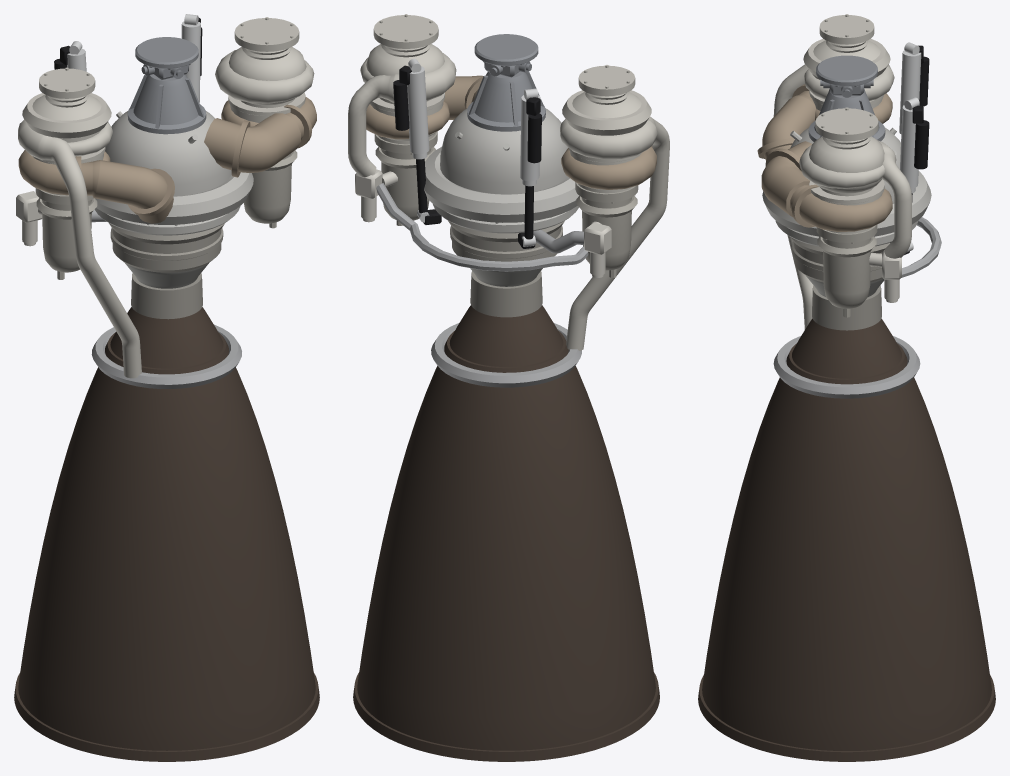
The picture shows the model from 3 angles, left to right: view 1: azimuth 30°, elevation 25°; view 2: azimuth 150°, elevation 25°; view 3: azimuth 270°, elevation 25°; orthographic projection. The views are drawn at different scales.
Visible parts, largest first — view 1: M2_Nozzle, M2_Turbopumps, M2_HotGasDucts, M2_InjectorDome, M2_ChamberJacket, M2_Preburners, M2_GimbalMount, M2_NozzleBands, M2_Lines, M2_Actuators; view 2: M2_Nozzle, M2_Turbopumps, M2_InjectorDome, M2_Preburners, M2_Lines, M2_Actuators, M2_NozzleBands, M2_GimbalMount, M2_ChamberJacket, M2_HotGasDucts; view 3: M2_Nozzle, M2_Turbopumps, M2_HotGasDucts, M2_NozzleBands, M2_Preburners, M2_Actuators, M2_Lines, M2_ChamberJacket, M2_GimbalMount, M2_InjectorDome.
Part boxes in pixels (box(x1,y1,x2,y2)): M2_Nozzle: box(18, 263, 315, 750); M2_Turbopumps: box(18, 17, 314, 378); M2_HotGasDucts: box(18, 97, 316, 223); M2_InjectorDome: box(94, 111, 253, 235); M2_ChamberJacket: box(109, 223, 224, 319); M2_Preburners: box(16, 150, 297, 279); M2_GimbalMount: box(127, 37, 206, 134); M2_NozzleBands: box(14, 332, 319, 761); M2_Lines: box(91, 210, 241, 388); M2_Actuators: box(54, 14, 202, 102); M2_Nozzle: box(357, 268, 655, 750); M2_Turbopumps: box(348, 14, 669, 350); M2_InjectorDome: box(424, 108, 579, 233); M2_Preburners: box(355, 132, 638, 277); M2_Lines: box(376, 183, 588, 387); M2_Actuators: box(393, 58, 541, 248); M2_NozzleBands: box(353, 330, 659, 761); M2_GimbalMount: box(467, 34, 545, 131); M2_ChamberJacket: box(448, 221, 564, 317); M2_HotGasDucts: box(366, 75, 656, 189); M2_Nozzle: box(702, 276, 991, 750); M2_Turbopumps: box(773, 14, 911, 329); M2_HotGasDucts: box(757, 84, 892, 231); M2_NozzleBands: box(698, 343, 995, 761); M2_Preburners: box(816, 225, 901, 317); M2_Actuators: box(890, 42, 929, 254); M2_Lines: box(773, 217, 941, 398); M2_ChamberJacket: box(790, 237, 890, 330); M2_GimbalMount: box(808, 55, 885, 141); M2_InjectorDome: box(762, 127, 931, 246).
Size of the model in its own units: 1.43 by 3.1 by 1.32.
